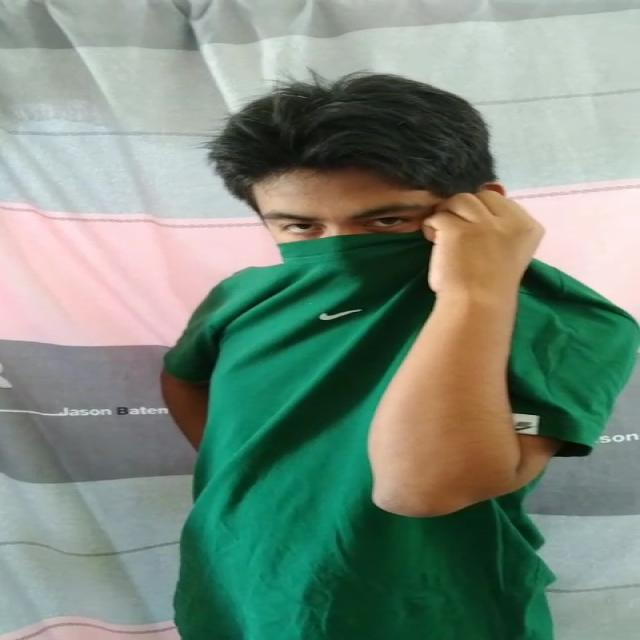8_ropa_rostro: (255, 222, 537, 341)
